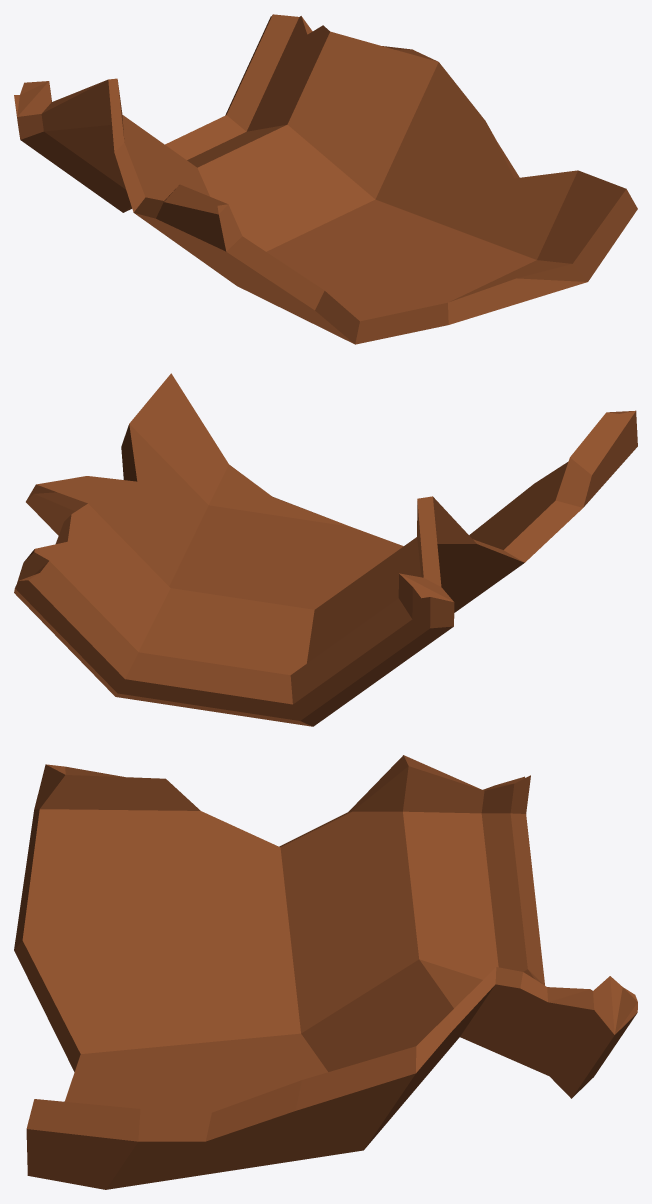
Rendered from Collin_BrokenVase_001_Piece_001.fbx.
3 renders of one model, top to bottom at view 1: azimuth 30°, elevation 25°; view 2: azimuth 150°, elevation 25°; view 3: azimuth 270°, elevation 25°, orthographic. The views are drawn at different scales.
Visible parts, largest first — view 1: Broken_Vase_005_BrokenPiece_001; view 2: Broken_Vase_005_BrokenPiece_001; view 3: Broken_Vase_005_BrokenPiece_001.
Boxes of the visible parts, x1,y1,x2,y2 form: Broken_Vase_005_BrokenPiece_001: [14, 14, 637, 344]; Broken_Vase_005_BrokenPiece_001: [14, 373, 637, 726]; Broken_Vase_005_BrokenPiece_001: [14, 755, 637, 1189].
Size of the model in its own units: 43.41 by 18.94 by 42.98.
1 material, 1 textured.
